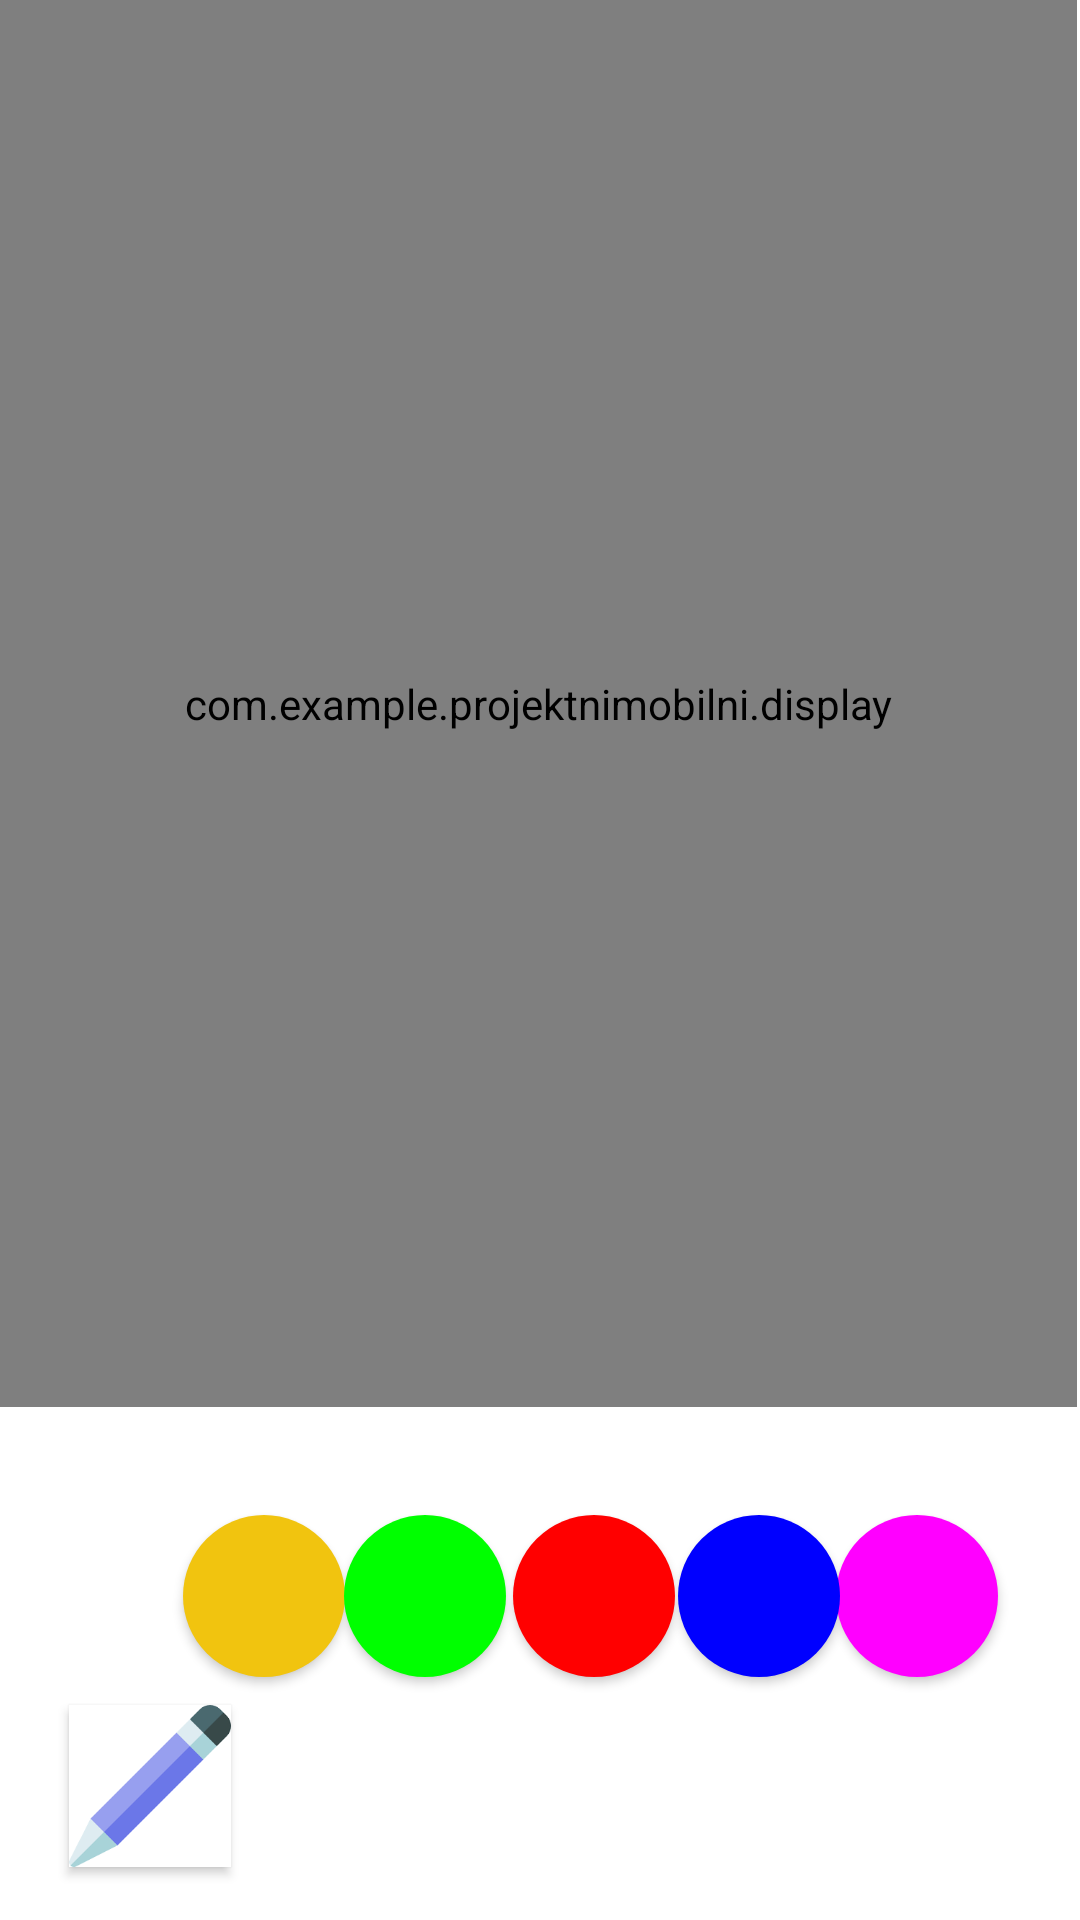

Icons on this 1080 × 1920 Android screen, each with its box as bbox(x1, y1, x2, y2):
draw: bbox(69, 1705, 231, 1867)
